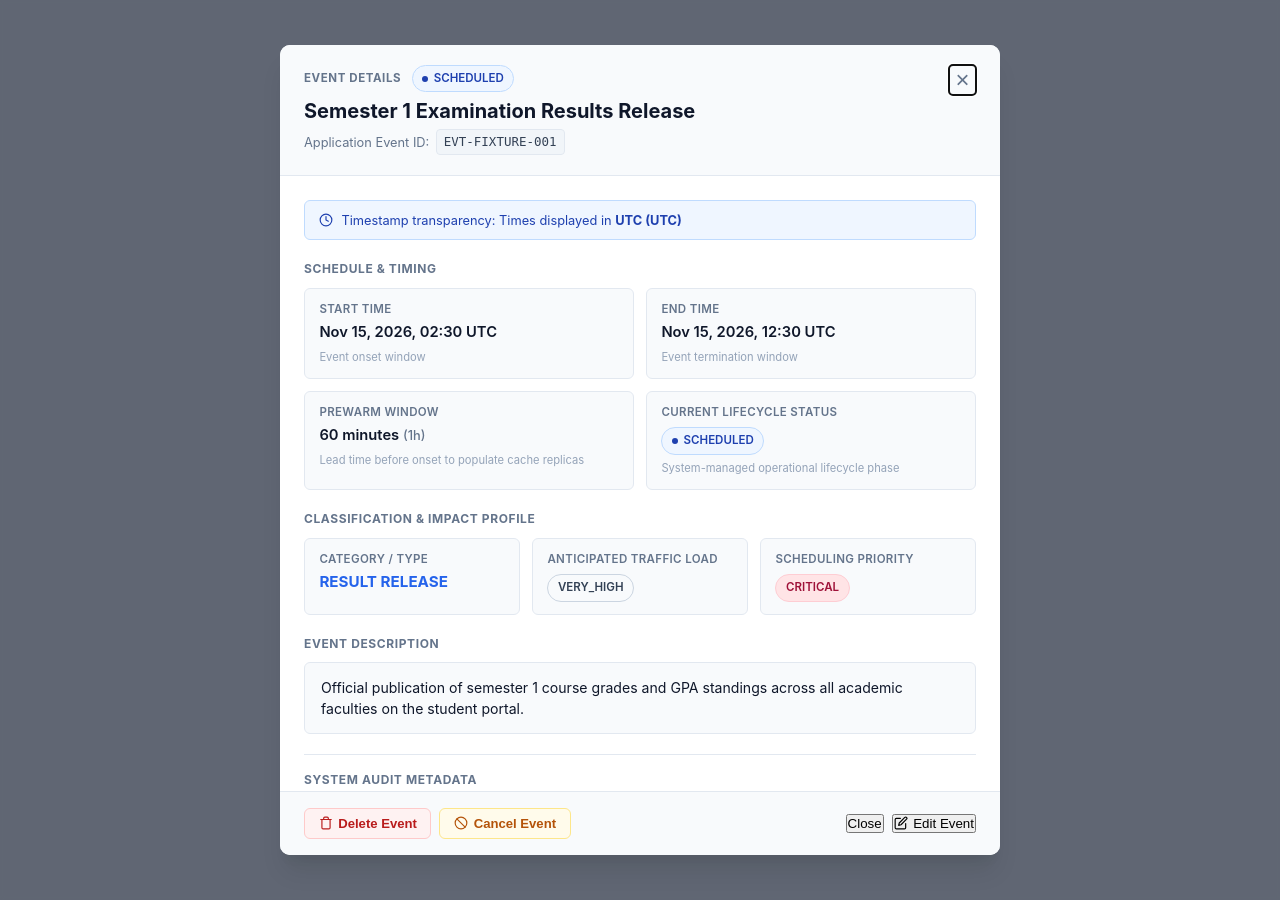
Scenario: Part 3.4 — Event Details and Lifecycle Actions › 2. Event Cancellation Lifecycle Action › handles cancellation failure safely, displaying error and keeping confirmation dialog open
The image size is (1280, 900).
Expected: the heading "Semester 1 Examination Results Release" is shown, [304,98,695,124]
Open cancel dialog
Click the button "Cancel Event".
click(505, 823)  # box [440,808,571,839]
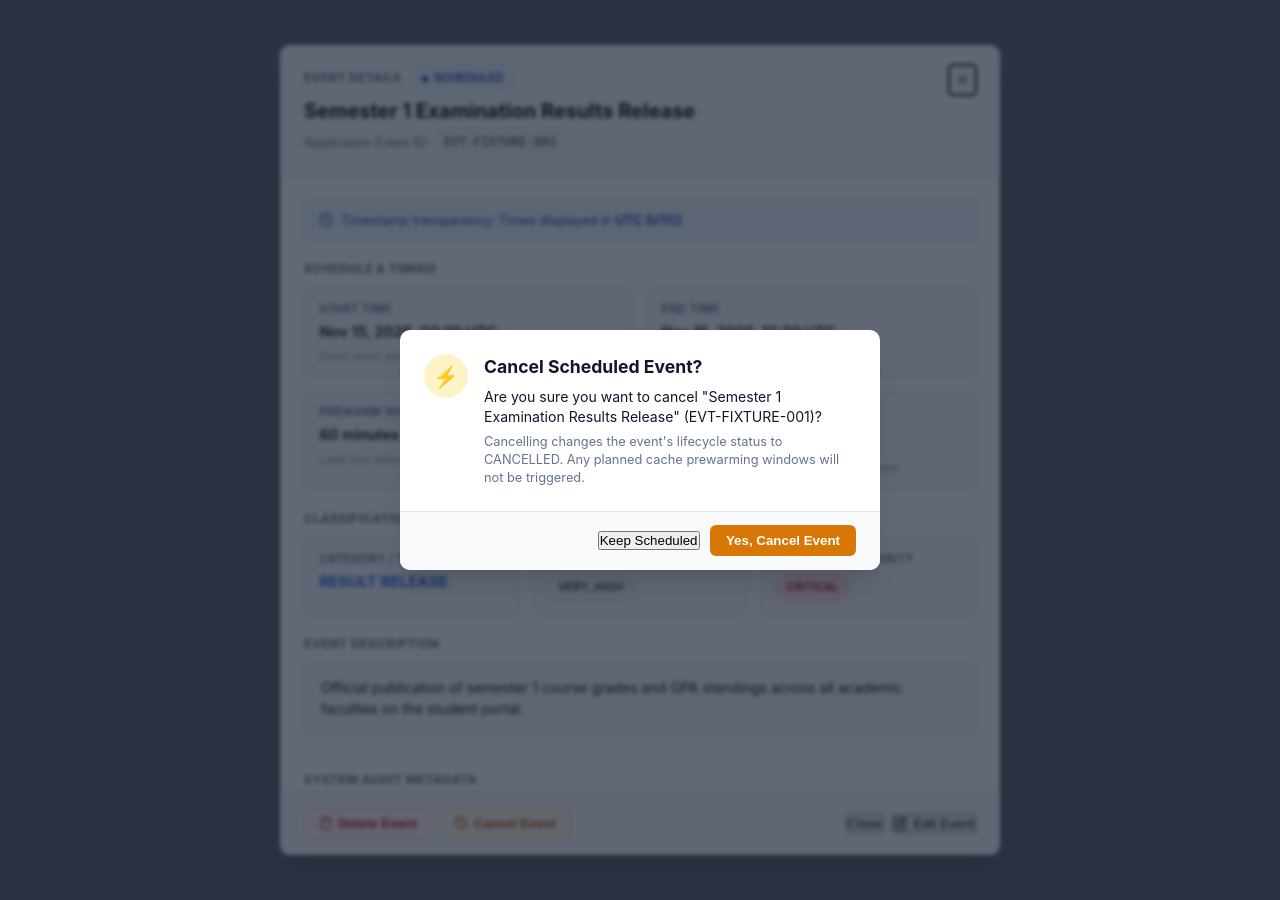
Click the button "Yes, Cancel Event".
click(783, 541)  # box [710,525,856,556]
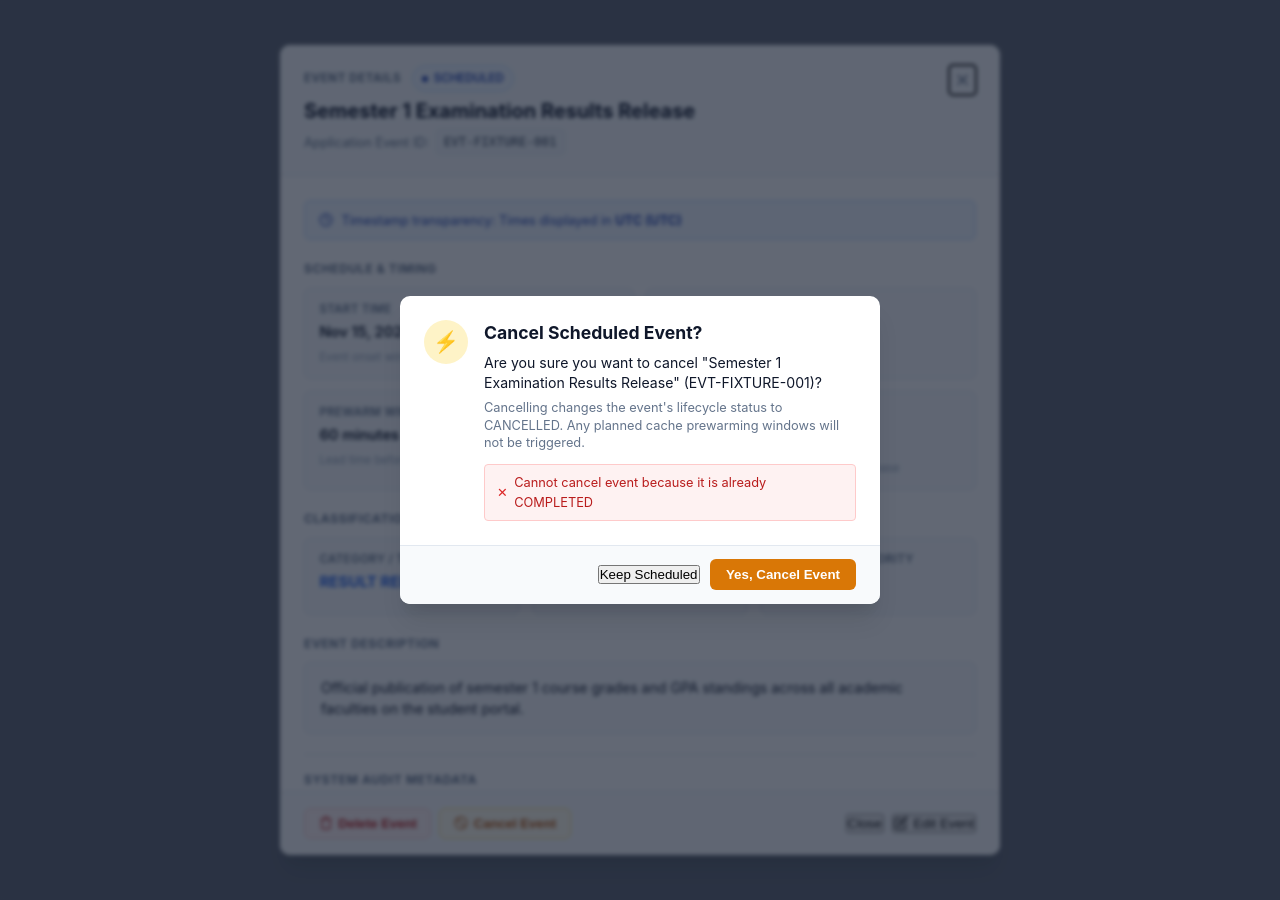
Expected: the heading "Cancel Scheduled Event?" is shown, [484,322,702,343]
Expected: the text "Cannot cancel event because it is already COMPLETED" is shown, [514,475,766,510]
